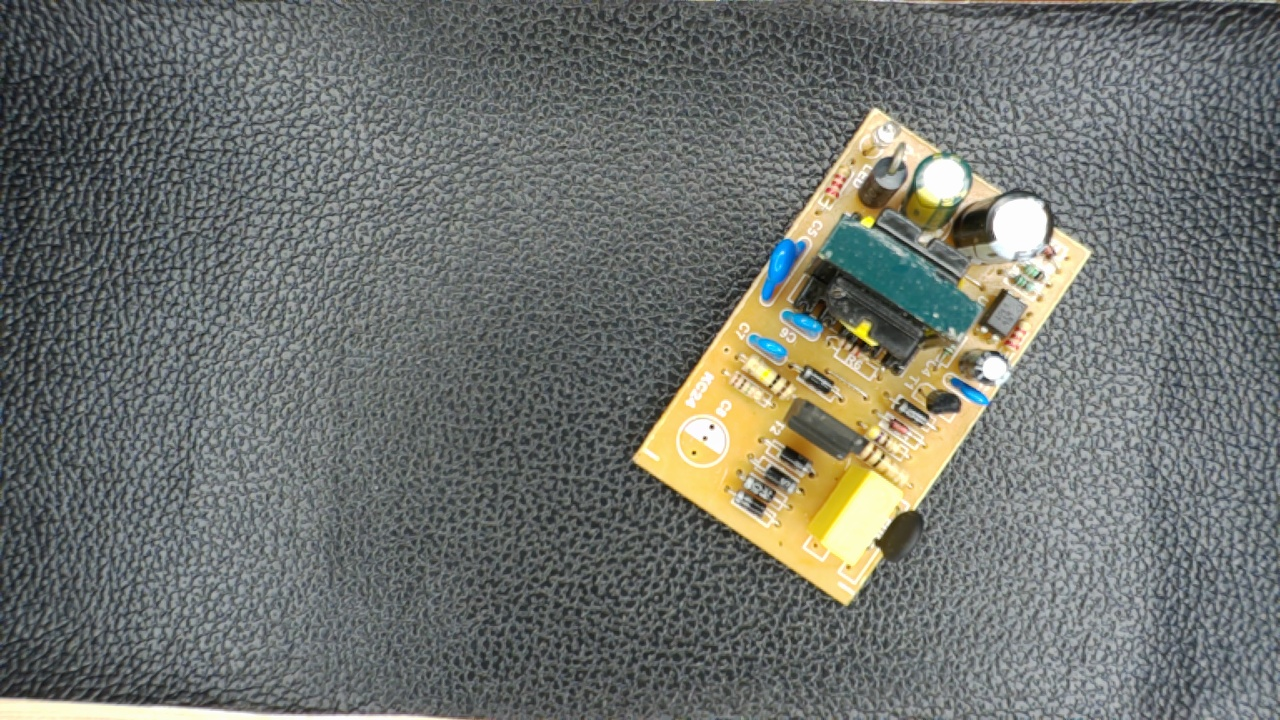fuse: (869, 498, 929, 566)
mov: (756, 230, 810, 306)
optocoupler: (975, 287, 1029, 345)
